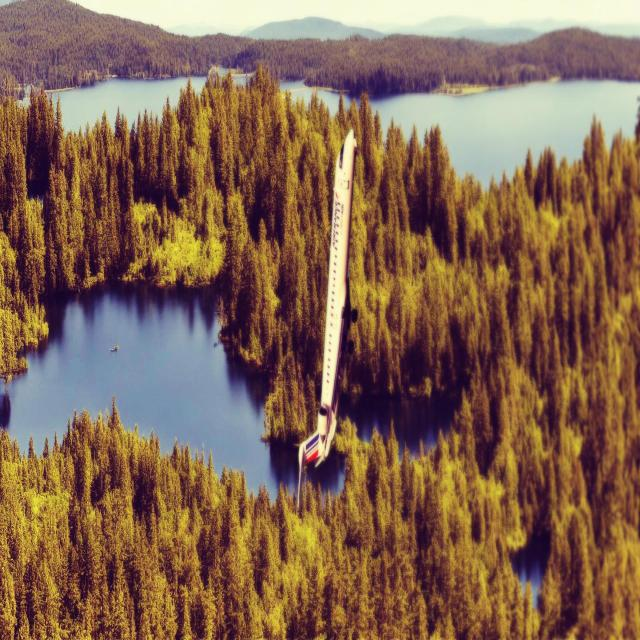airplane: (296, 127, 357, 510)
